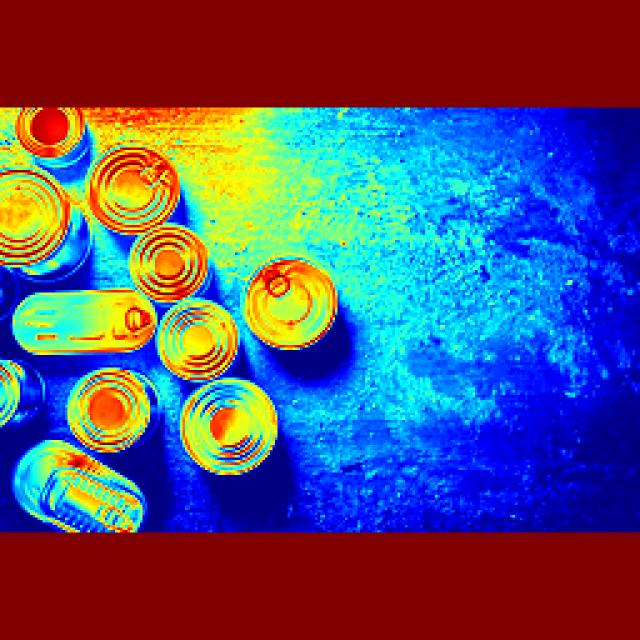Aluminium Food Cans: (182, 366, 276, 492), (14, 290, 160, 368), (247, 246, 338, 363), (42, 443, 149, 541), (0, 171, 77, 266), (89, 154, 179, 228), (161, 309, 245, 386), (77, 383, 162, 441), (142, 232, 212, 295), (21, 112, 81, 156)
